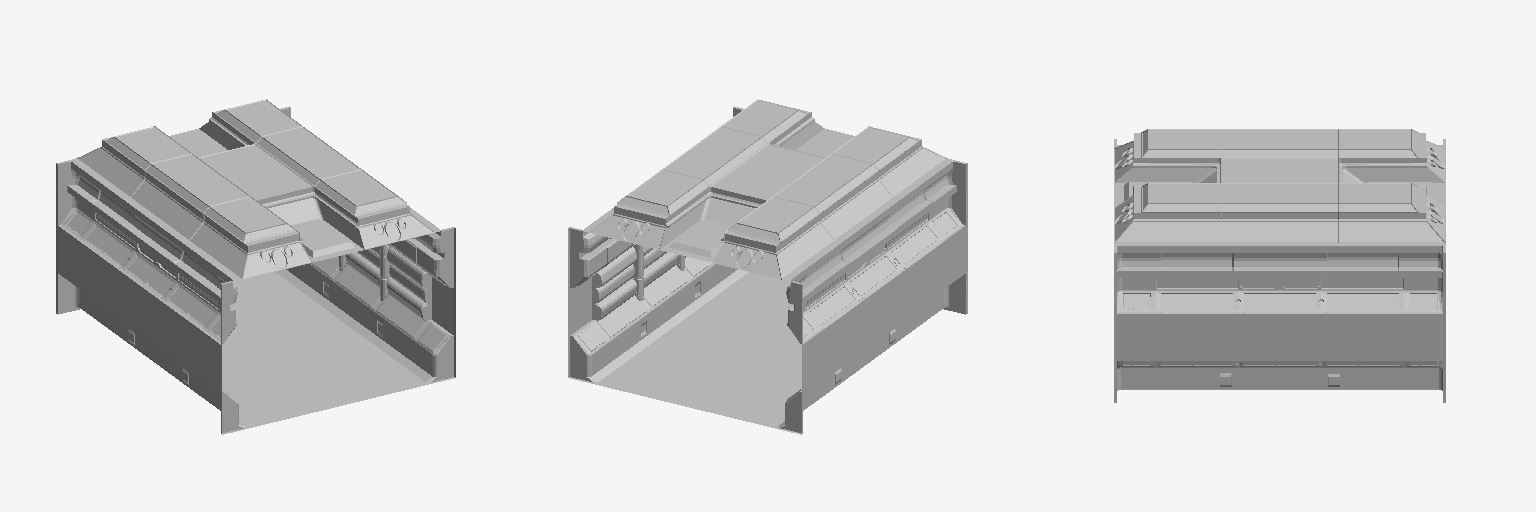
The model's file is hallway.obj.
The picture shows the model from 3 angles: view 1: azimuth 30°, elevation 25°; view 2: azimuth 150°, elevation 25°; view 3: azimuth 270°, elevation 25°; orthographic projection.
Visible parts, largest first — view 1: HallwayStraight001_Untitled; view 2: HallwayStraight001_Untitled; view 3: HallwayStraight001_Untitled.
Boxes of the visible parts, x1=… form: HallwayStraight001_Untitled: x1=56, y1=99, x2=455, y2=434; HallwayStraight001_Untitled: x1=568, y1=99, x2=967, y2=434; HallwayStraight001_Untitled: x1=1114, y1=129, x2=1445, y2=402.
Size of the model in its own units: 6.5 by 4.78 by 8.